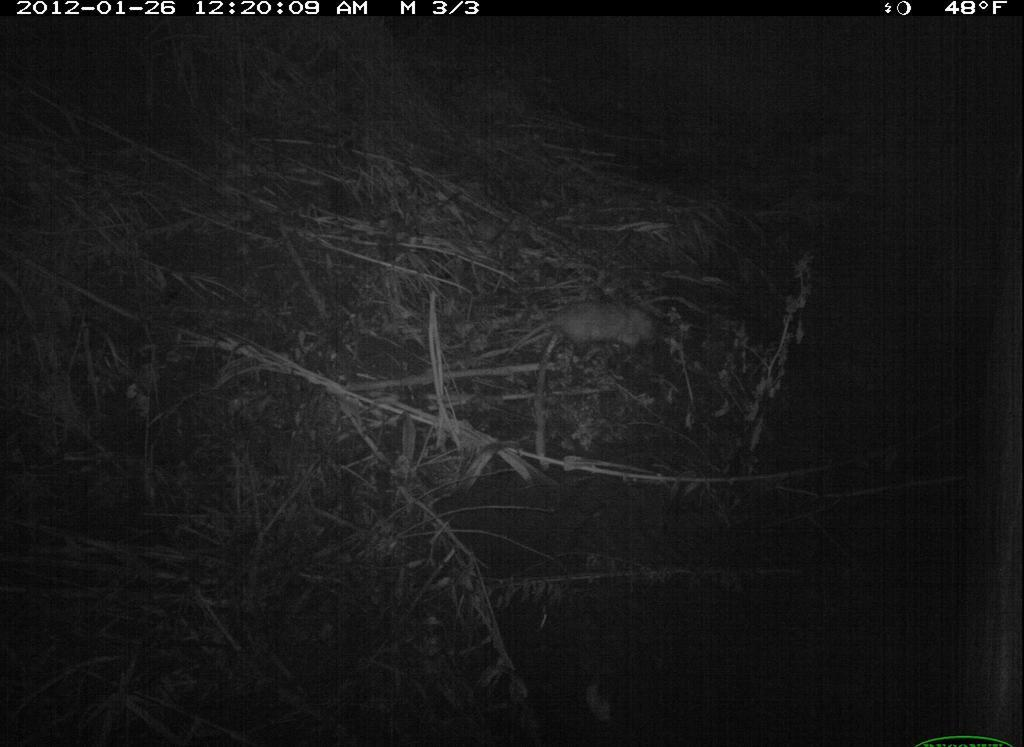opossum: (492, 281, 669, 369)
